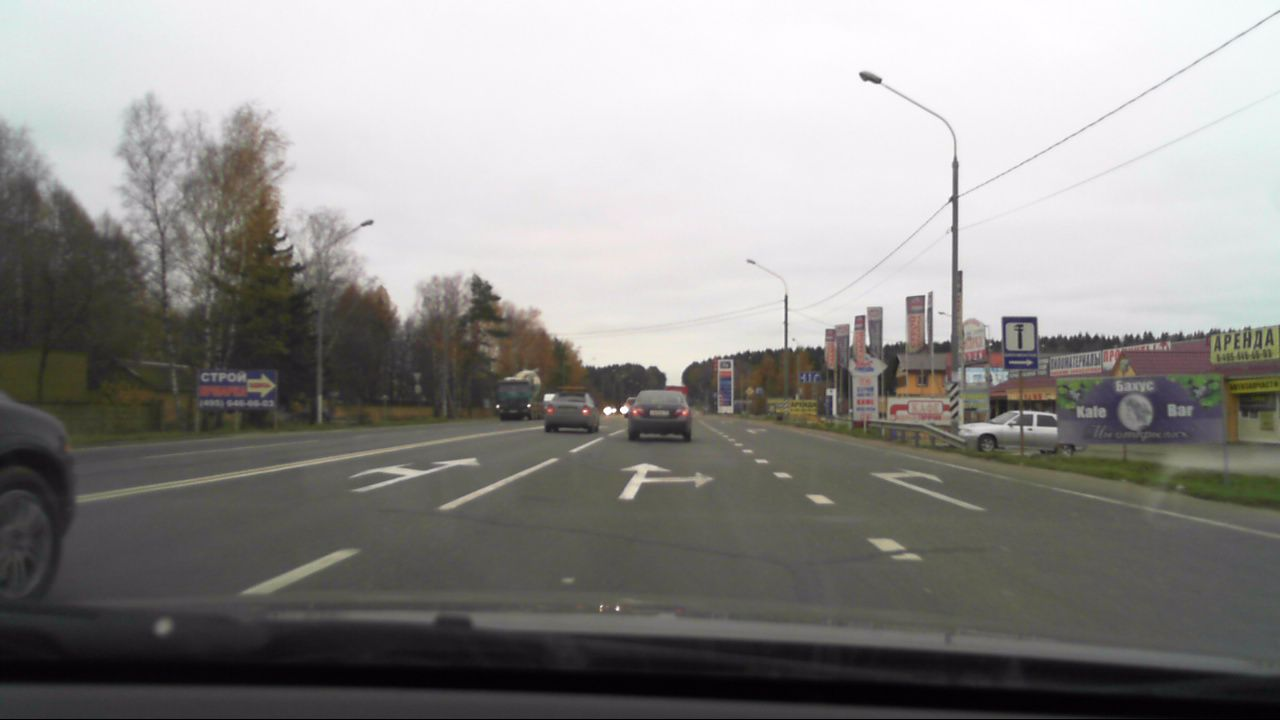One-Way Traffic: (1004, 356, 1038, 368)
